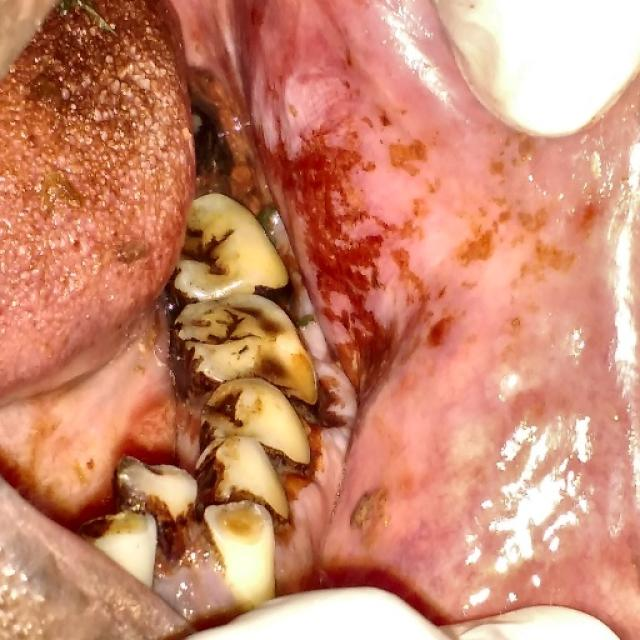leukoplakia-like-detection: (203, 12, 568, 601)
processing_area: (0, 0, 639, 638)
